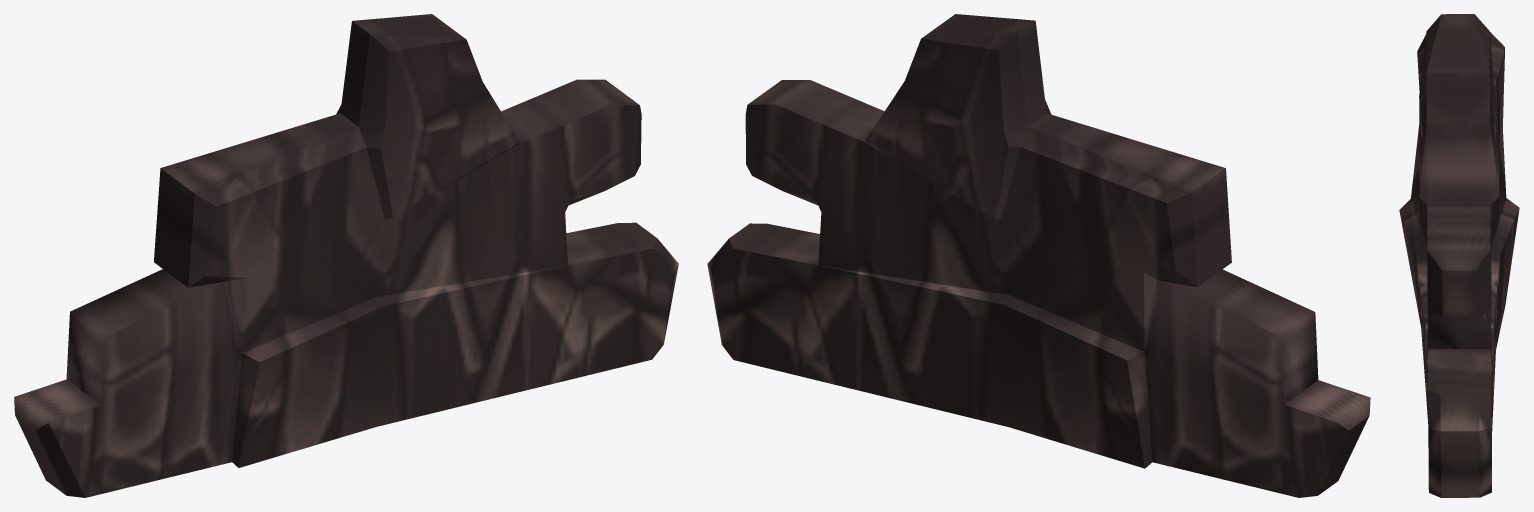
Rendered from rock_01.fbx.
3 renders of one model, left to right at view 1: azimuth 30°, elevation 25°; view 2: azimuth 150°, elevation 25°; view 3: azimuth 270°, elevation 25°, orthographic. The views are drawn at different scales.
Visible parts, largest first — view 1: rock_01; view 2: rock_01; view 3: rock_01.
Boxes of the visible parts, x1=… form: rock_01: x1=14, y1=14, x2=678, y2=497; rock_01: x1=707, y1=14, x2=1370, y2=497; rock_01: x1=1399, y1=14, x2=1519, y2=497.
Bounding box in the file's own units: 5.19 × 3 × 0.9164.
